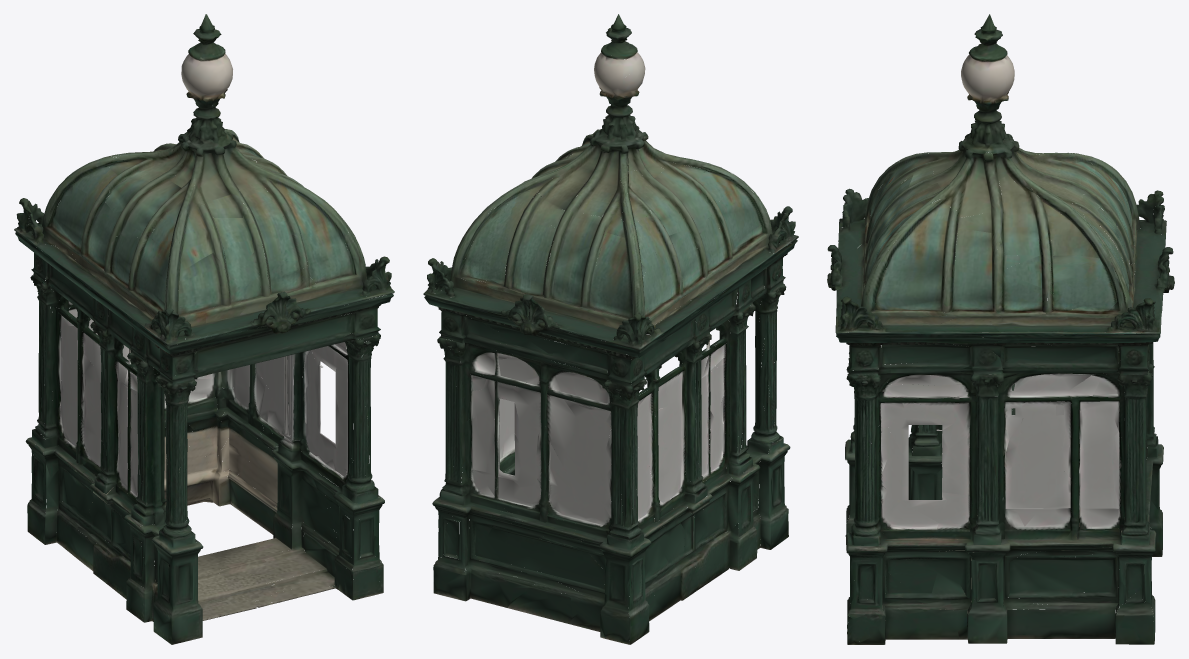
File: h_irt_kiosk.glb
3 renders of one model, left to right at view 1: azimuth 30°, elevation 25°; view 2: azimuth 150°, elevation 25°; view 3: azimuth 270°, elevation 25°, orthographic. The views are drawn at different scales.
Visible parts, largest first — view 1: tripo_node_62940f7f-0ca3-4fd1-be1f-4a39d4b5f3e2; view 2: tripo_node_62940f7f-0ca3-4fd1-be1f-4a39d4b5f3e2; view 3: tripo_node_62940f7f-0ca3-4fd1-be1f-4a39d4b5f3e2.
Part boxes in pixels (left/top/right/bottom): tripo_node_62940f7f-0ca3-4fd1-be1f-4a39d4b5f3e2: left=14, top=14, right=394, bottom=644; tripo_node_62940f7f-0ca3-4fd1-be1f-4a39d4b5f3e2: left=423, top=14, right=798, bottom=644; tripo_node_62940f7f-0ca3-4fd1-be1f-4a39d4b5f3e2: left=827, top=14, right=1174, bottom=644.
Bounding box in the file's own units: 0.4184 × 0.9785 × 0.5357.
Materials: 1 (1 with a texture image).
